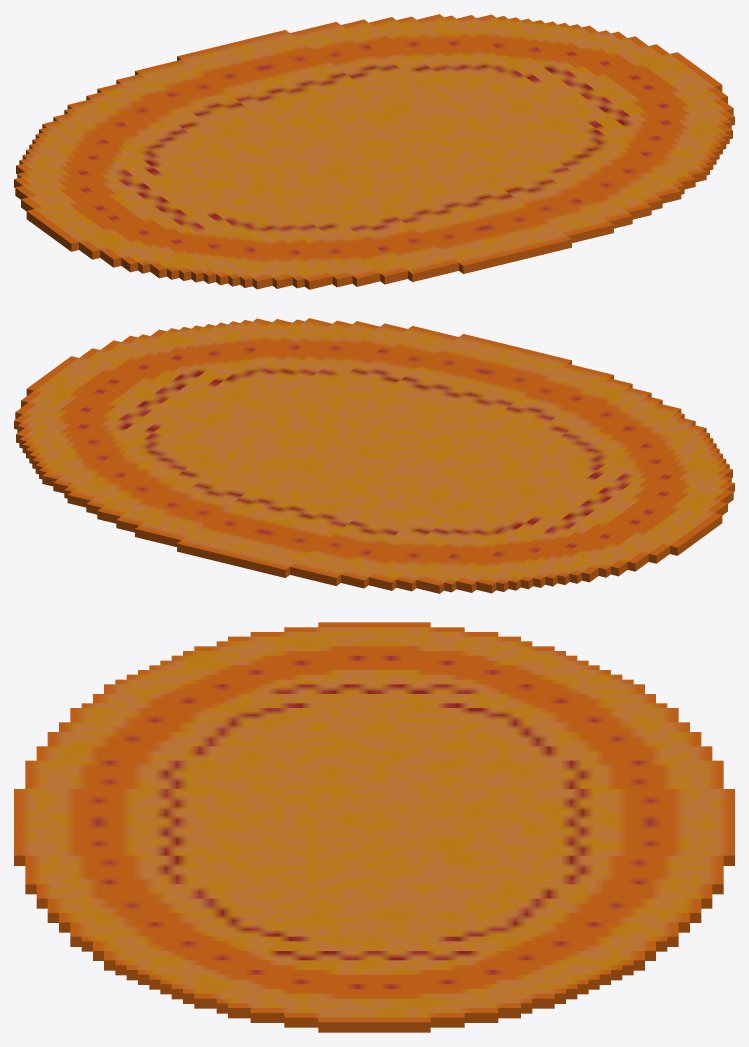
Rendered from Decor_RoundRug_00.fbx.
The picture shows the model from 3 angles, top to bottom: view 1: azimuth 30°, elevation 25°; view 2: azimuth 150°, elevation 25°; view 3: azimuth 270°, elevation 25°; orthographic projection. The views are drawn at different scales.
Visible parts, largest first — view 1: Decor_RoundRug_00; view 2: Decor_RoundRug_00; view 3: Decor_RoundRug_00.
Boxes of the visible parts, left/top/right/bottom form: Decor_RoundRug_00: left=14, top=14, right=734, bottom=289; Decor_RoundRug_00: left=14, top=318, right=734, bottom=593; Decor_RoundRug_00: left=14, top=622, right=734, bottom=1032.
Bounding box in the file's own units: 420 × 5 × 320.
